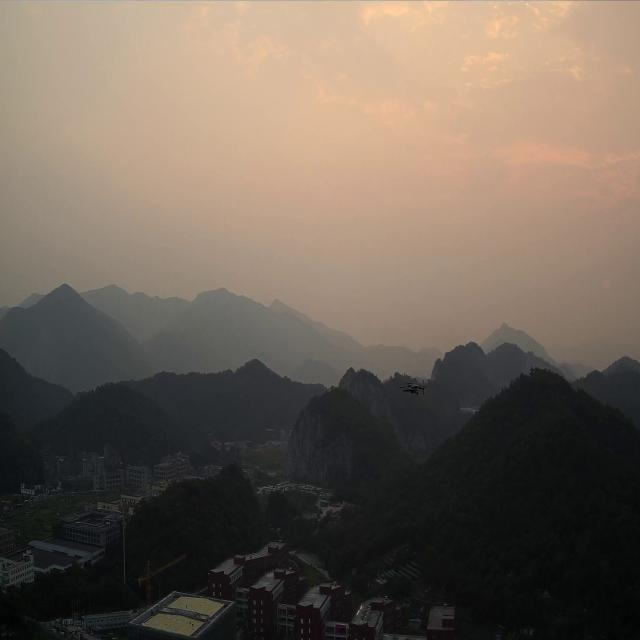drone: (398, 382, 428, 395)
